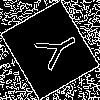Y: (25, 24, 83, 76)
